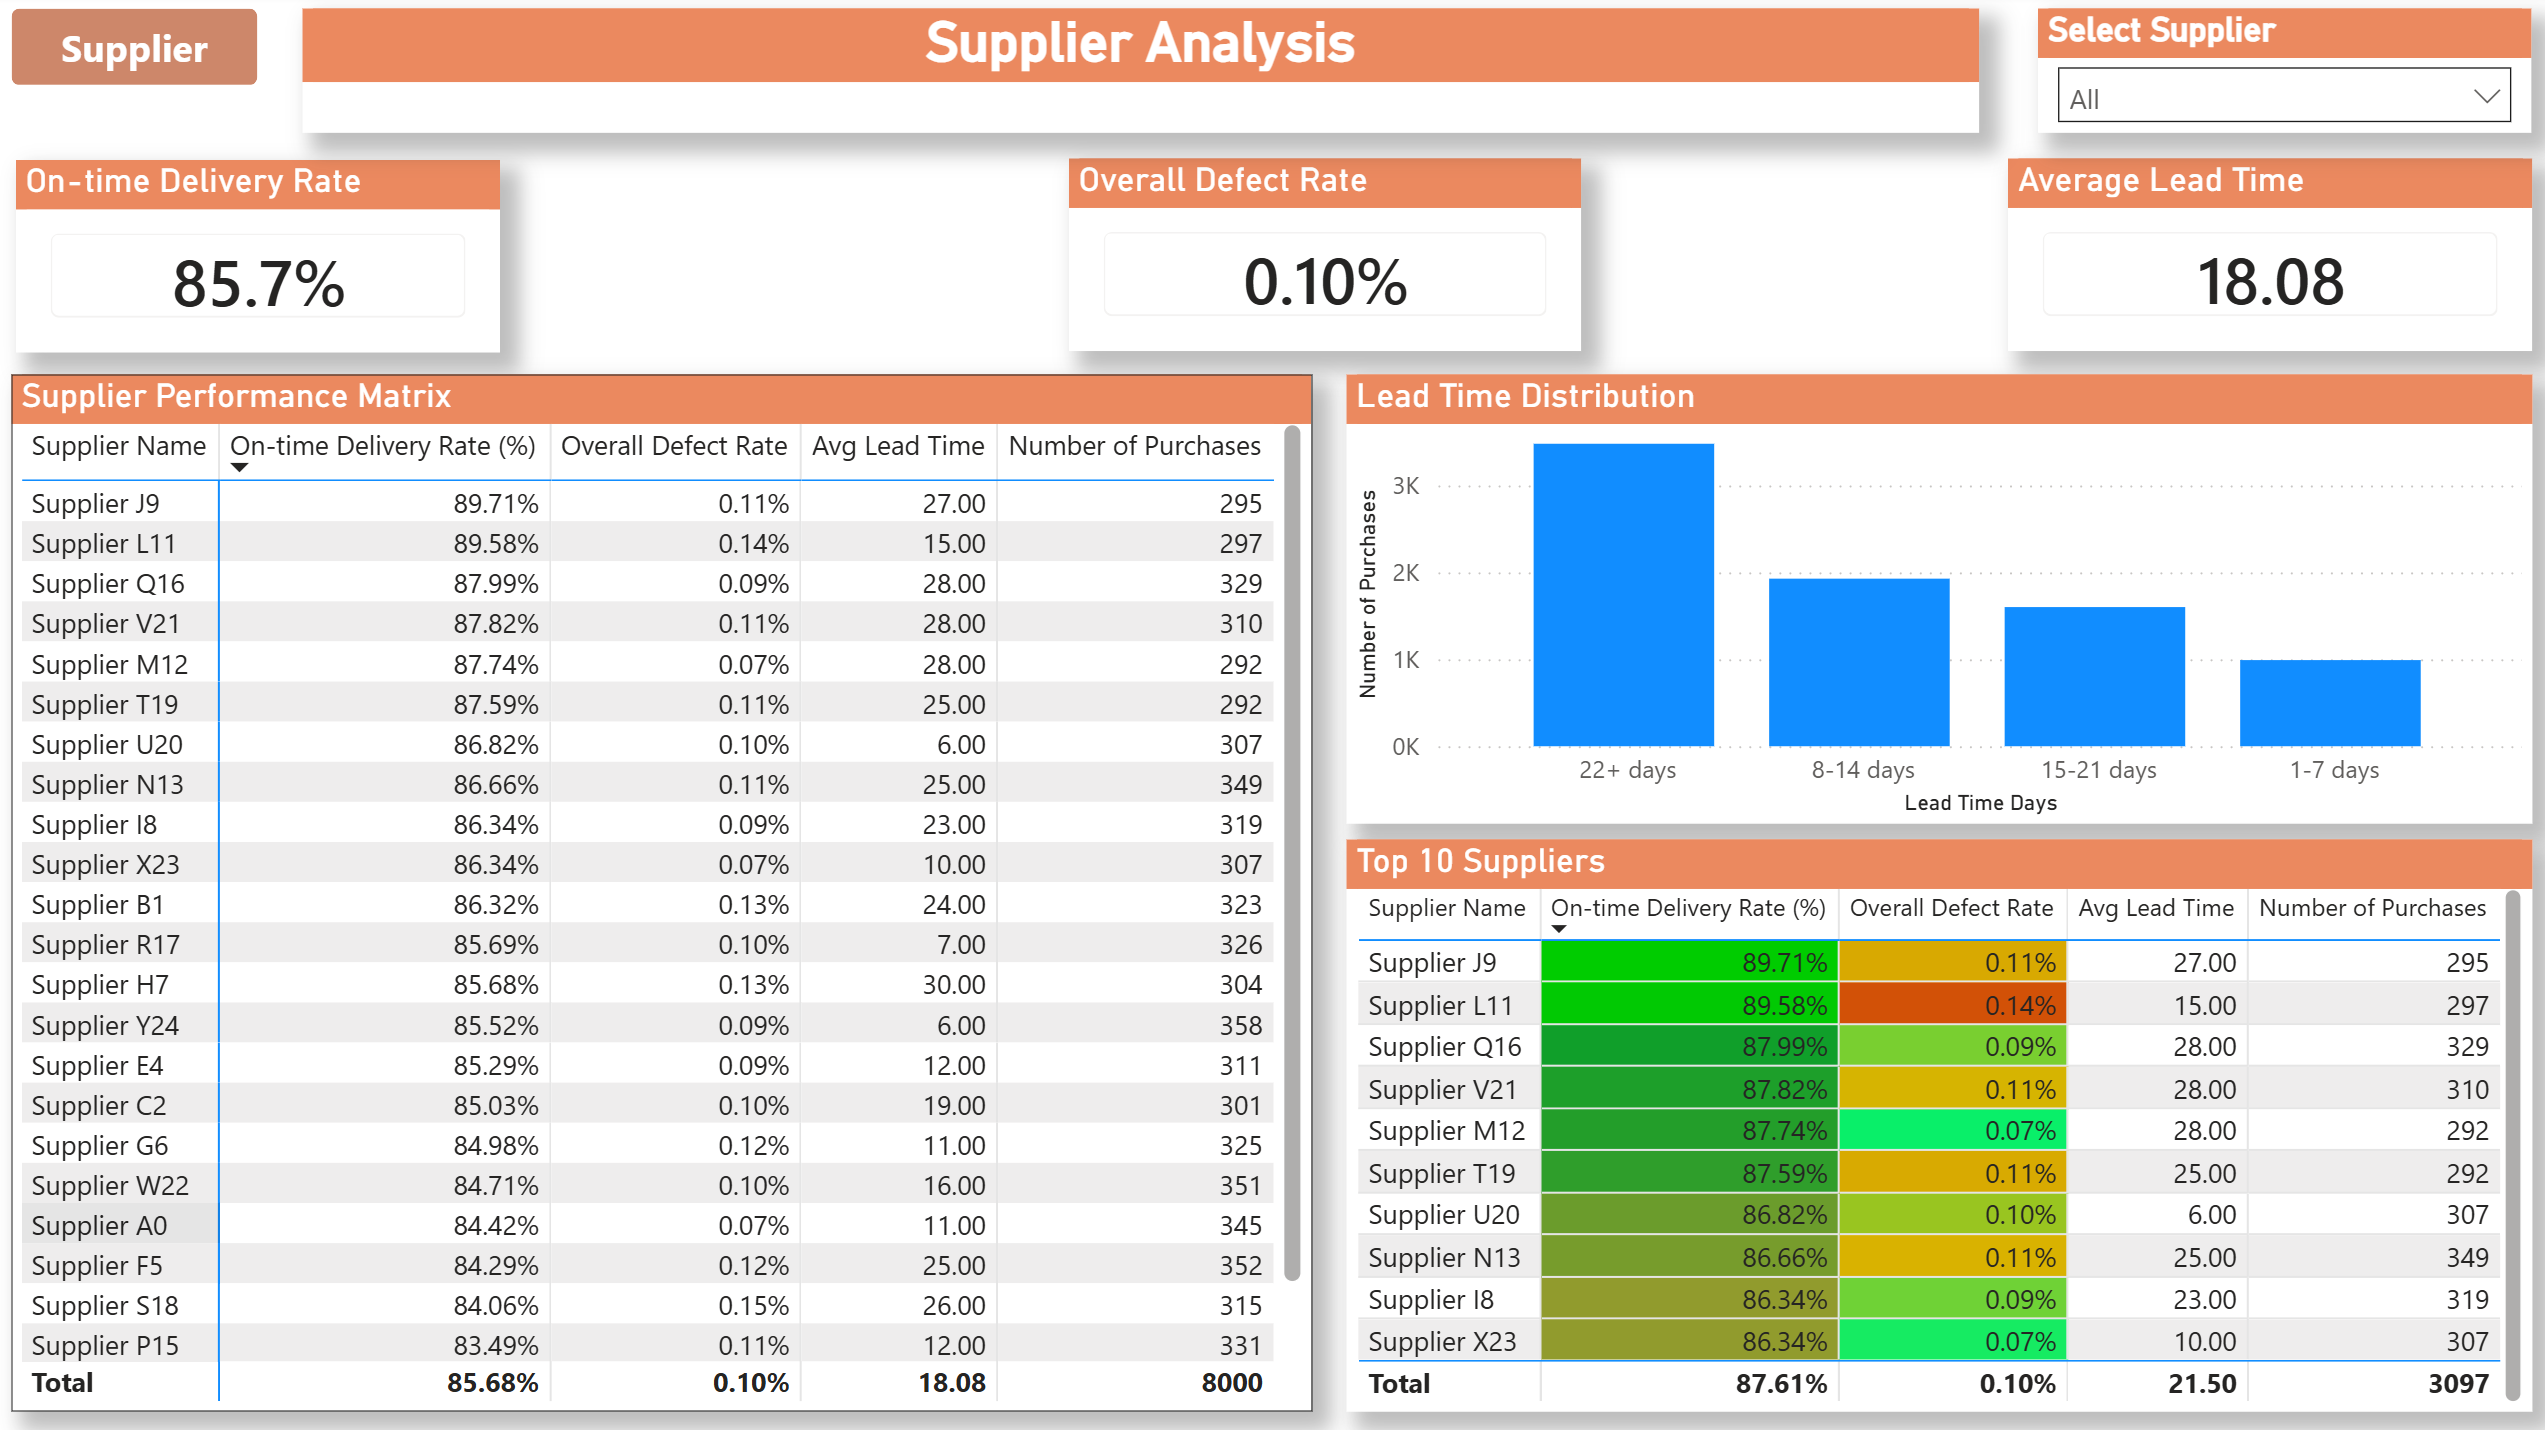

What the dashboard file says about the page in this screenshot:
{"tool":"powerbi","page":{"name":"Supplier Analysis","canvas":[1280,720],"ordinal":2},"visuals":[{"type":"cardVisual","title":"On-time Delivery Rate","fields":{"Data":["Purchases.On-time Delivery Rate"]},"box":[11.9,82.6,241.1,96.3],"z":0},{"type":"cardVisual","title":"Overall Defect Rate","fields":{"Data":["Purchases.Overall Defect Rate"]},"box":[536.6,81.8,255.5,96.3],"z":1000},{"type":"cardVisual","title":"Average Lead Time","fields":{"Data":["Purchases.Avg Lead Time"]},"box":[1005.2,81.8,261.5,96.3],"z":2000},{"type":"pivotTable","title":"Supplier Performance Matrix","fields":{"Rows":["Suppliers.SupplierName"],"Values":["Purchases.On-time Delivery Rate","Purchases.Overall Defect Rate","Purchases.Avg Lead Time","Purchases.Number of Purchases"]},"box":[9.8,189.1,648,516.9],"z":3000},{"type":"clusteredColumnChart","title":"Lead Time Distribution","fields":{"Category":["Suppliers.Lead Time Bucket"],"Y":["Purchases.Number of Purchases"]},"box":[675.3,189.1,591.2,224],"z":4000},{"type":"tableEx","title":"Top 10 Suppliers","fields":{"Values":["Suppliers.SupplierName","Purchases.On-time Delivery Rate (%)","Purchases.Overall Defect Rate","Purchases.Avg Lead Time","Purchases.Number of Purchases"]},"box":[675.3,420.7,591.2,285.2],"z":5000},{"type":"textbox","title":"Supplier Analysis","box":[155,6.9,835.9,61.8],"z":6000},{"type":"slicer","title":"Select Supplier","fields":{"Values":["Suppliers.SupplierName"]},"box":[1020.3,6.9,246.3,61.8],"z":7000},{"type":"actionButton","title":"Overview","box":[9.8,6.9,122.6,38.3],"z":7001}]}

Visuals, with their boxes in screenshot pixels (x1, y1, x2, y2), scaled from the page's 1280x720 canvas onto the 2545x1430 screenshot:
"On-time Delivery Rate" cardVisual: <box>24,164,503,355</box>
"Overall Defect Rate" cardVisual: <box>1067,162,1575,354</box>
"Average Lead Time" cardVisual: <box>1999,162,2519,354</box>
"Supplier Performance Matrix" pivotTable: <box>19,376,1308,1402</box>
"Lead Time Distribution" clusteredColumnChart: <box>1343,376,2518,820</box>
"Top 10 Suppliers" tableEx: <box>1343,836,2518,1402</box>
"Supplier Analysis" textbox: <box>308,14,1970,136</box>
"Select Supplier" slicer: <box>2029,14,2518,136</box>
"Overview" actionButton: <box>19,14,263,90</box>
